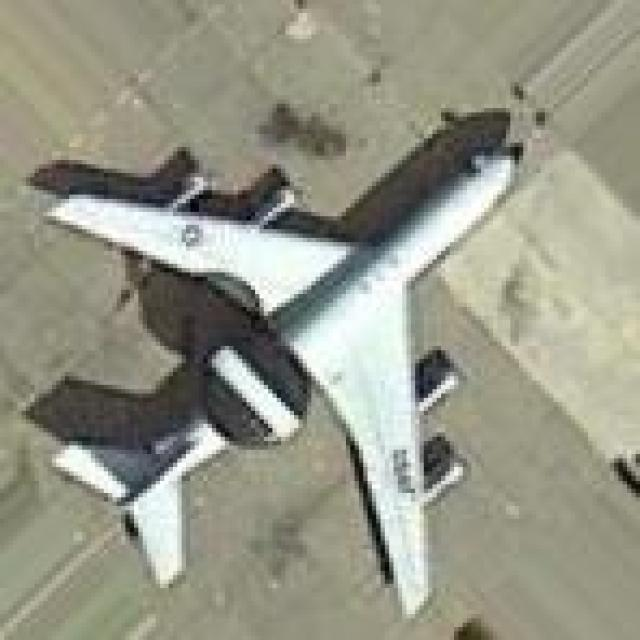E-3_TopDown: (27, 102, 538, 628)
